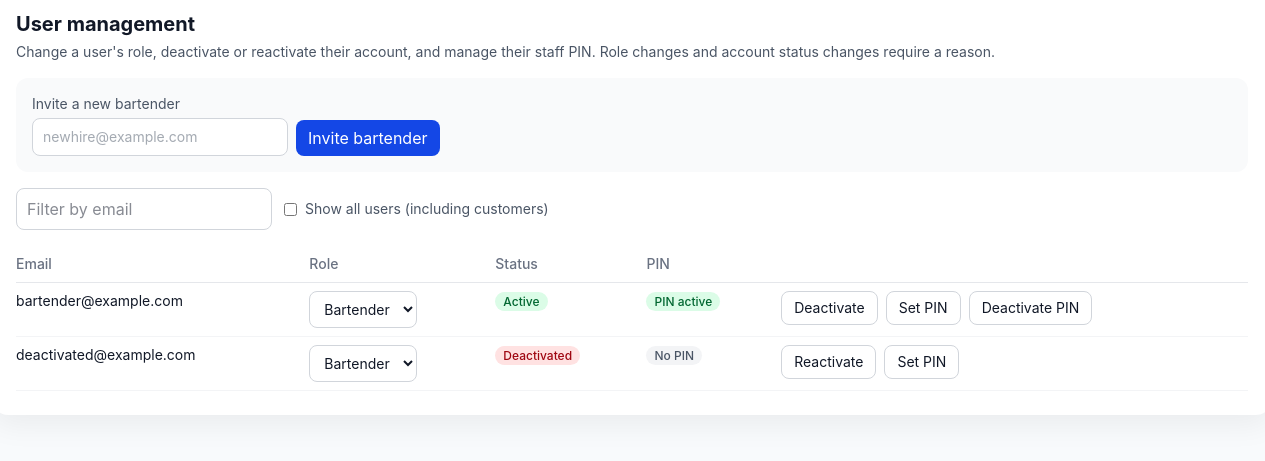
Test case: AdminUsers › surfaces an error from a failed invite without clearing the typed email
The width and height of the screenshot is (1265, 461).
Check: the text "bartender@example.com" is shown, box [16,282,309,336]
Type "customer@example.com" into the field with placeholder "newhire@example.com".
click(160, 137); type("customer@example.com")  # box [32,118,288,156]
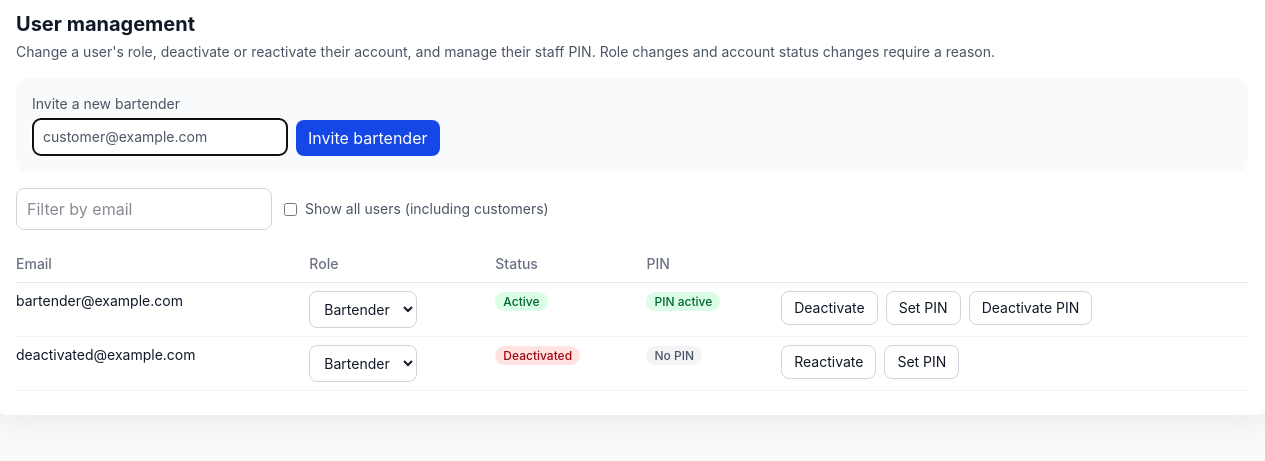
Click the button "Invite bartender".
click(368, 138)  # box [296,120,440,156]
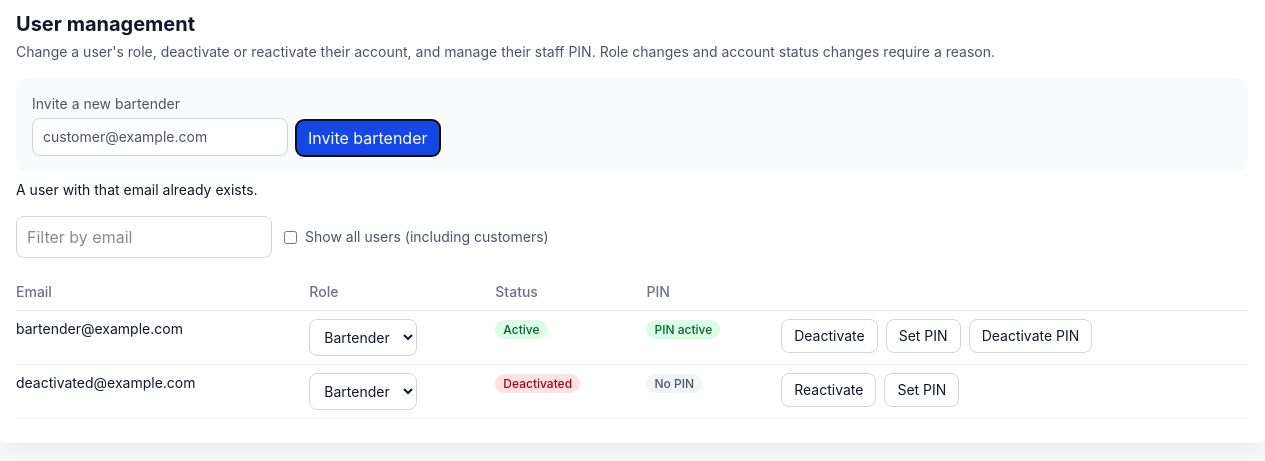
Check: the text "A user with that email already exists." is shown, box [16,181,258,198]
